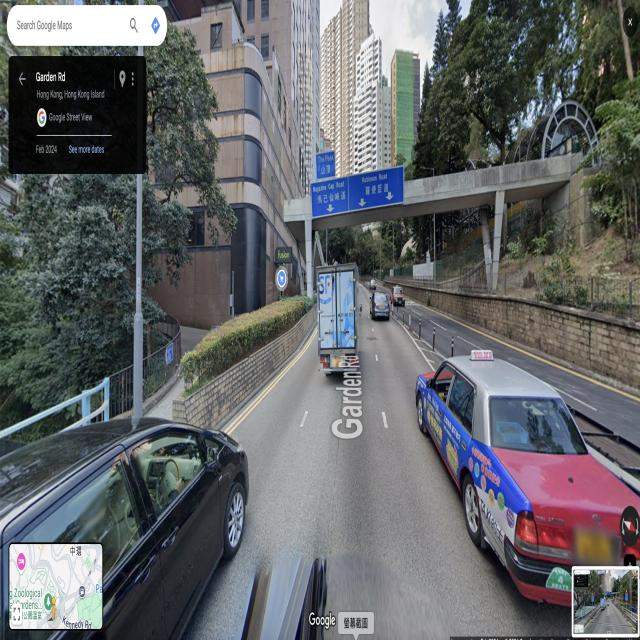Direction-Sign: (310, 166, 404, 218), (316, 150, 336, 181)
